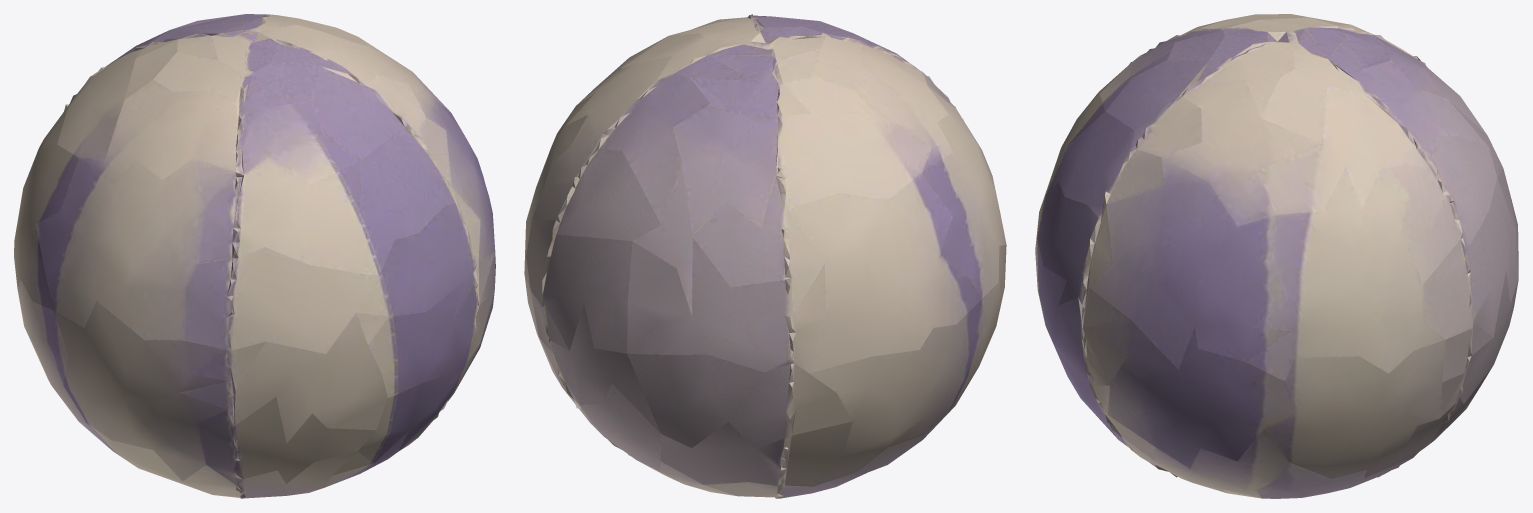
The model's file is blue-toy-ball-v1.glb.
3 renders of one model, left to right at view 1: azimuth 30°, elevation 25°; view 2: azimuth 150°, elevation 25°; view 3: azimuth 270°, elevation 25°, orthographic.
Visible parts, largest first — view 1: Mesh_0; view 2: Mesh_0; view 3: Mesh_0.
Part boxes in pixels (x1,y1,x2,y2): Mesh_0: (14,14,495,498); Mesh_0: (524,14,1006,498); Mesh_0: (1035,14,1518,498).
Size of the model in its own units: 0.1097 by 0.11 by 0.1097.
Materials: 1 (1 with a texture image).
